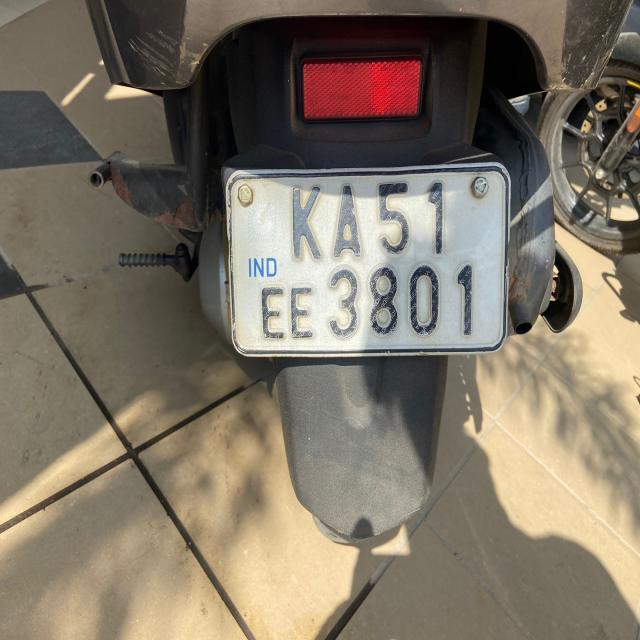0: (406, 252, 441, 345)
1: (422, 175, 452, 261), (455, 254, 481, 351)
3: (324, 262, 361, 338)
5: (374, 172, 414, 257)
8: (366, 263, 401, 339)
A: (332, 179, 366, 264)
E: (256, 279, 287, 348), (287, 280, 317, 346)
K: (283, 178, 327, 269)
